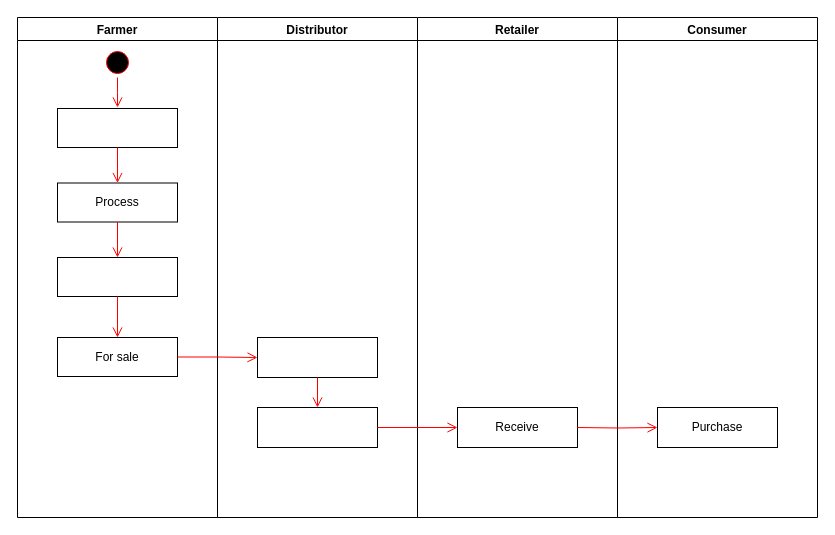
Some shapes in this 835 by 535 pixel diagram are drawn without their labels. Here are the shapes that lost their labels. From the top down, the centre of each, then its label:
At pixel 117 128: "Harvest".
At pixel 117 276: "Pack".
At pixel 317 357: "Sell".
At pixel 317 427: "Ship".
